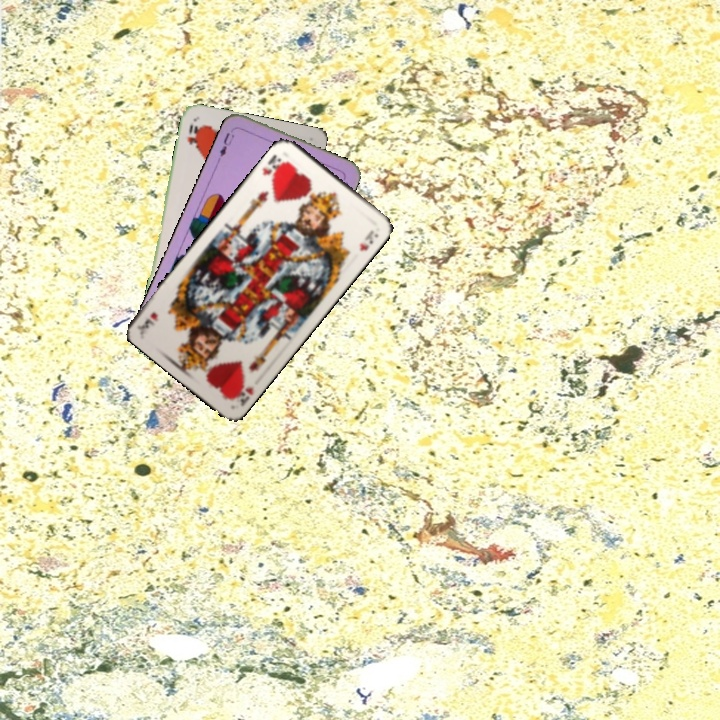EU: (214, 128, 237, 163)
HK: (258, 150, 290, 184), (227, 376, 256, 409)
HO: (183, 121, 202, 151)
